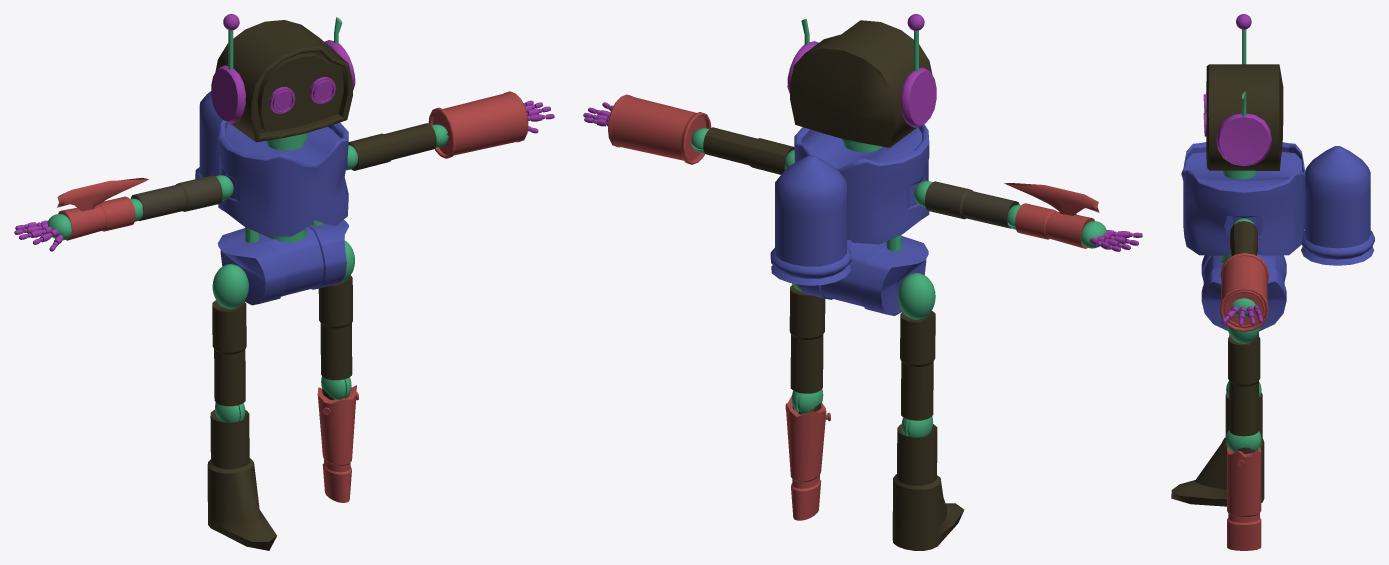
Rendered from R-BRT-InGame-8.fbx.
3 views of the same model, side by side, from view 1: azimuth 30°, elevation 25°; view 2: azimuth 150°, elevation 25°; view 3: azimuth 270°, elevation 25° (orthographic). The views are drawn at different scales.
Parts seen in each view (by area): view 1: Chest, Head, Hips2, LeftLeg4, RightArm5 (×2), Can, PegLeg, RightArm8, LeftLeg5, RighLeg2, EarR1, JetPack (+1 smaller); view 2: Head, Chest, JetPack, LeftLeg4, RightArm5 (×2), Hips2, Can, PegLeg, RightArm8, LeftLeg5, RighLeg2, EarR1 (+1 smaller); view 3: Chest, JetPack, Head, PegLeg, RighLeg2, Can, Hips2, LeftLeg4, EarR, RightArm5, RightLeg7, RightHip (+1 smaller).
Boxes of the visible parts, x1=… form: Chest: x1=218, y1=120, x2=348, y2=236; Head: x1=215, y1=20, x2=352, y2=142; Hips2: x1=217, y1=220, x2=348, y2=305; LeftLeg4: x1=207, y1=409, x2=276, y2=550; RightArm5 (×2): x1=131, y1=123, x2=436, y2=220; Can: x1=428, y1=91, x2=528, y2=158; PegLeg: x1=317, y1=385, x2=356, y2=502; RightArm8: x1=57, y1=178, x2=148, y2=240; LeftLeg5: x1=212, y1=300, x2=246, y2=406; RighLeg2: x1=318, y1=275, x2=352, y2=380; EarR1: x1=211, y1=65, x2=245, y2=123; JetPack: x1=195, y1=91, x2=222, y2=179; Head: x1=790, y1=20, x2=932, y2=147; Chest: x1=794, y1=124, x2=929, y2=244; JetPack: x1=770, y1=155, x2=851, y2=285; LeftLeg4: x1=892, y1=424, x2=964, y2=550; RightArm5 (×2): x1=703, y1=127, x2=1019, y2=228; Hips2: x1=798, y1=236, x2=928, y2=315; Can: x1=608, y1=94, x2=711, y2=164; PegLeg: x1=785, y1=395, x2=826, y2=520; RightArm8: x1=1004, y1=183, x2=1099, y2=248; LeftLeg5: x1=900, y1=311, x2=935, y2=420; RighLeg2: x1=789, y1=284, x2=825, y2=393; EarR1: x1=900, y1=67, x2=936, y2=127; Chest: x1=1181, y1=142, x2=1305, y2=255; JetPack: x1=1301, y1=146, x2=1374, y2=265; Head: x1=1206, y1=64, x2=1283, y2=170; PegLeg: x1=1227, y1=446, x2=1261, y2=550; RighLeg2: x1=1228, y1=335, x2=1260, y2=436; Can: x1=1220, y1=253, x2=1269, y2=331; Hips2: x1=1201, y1=254, x2=1286, y2=330; LeftLeg4: x1=1171, y1=392, x2=1264, y2=506; EarR: x1=1216, y1=113, x2=1271, y2=166; RightArm5: x1=1230, y1=221, x2=1257, y2=256; RightLeg7: x1=1226, y1=430, x2=1261, y2=451; RightHip: x1=1227, y1=326, x2=1260, y2=343.
Size of the model in its own units: 108 by 99.13 by 37.81.
